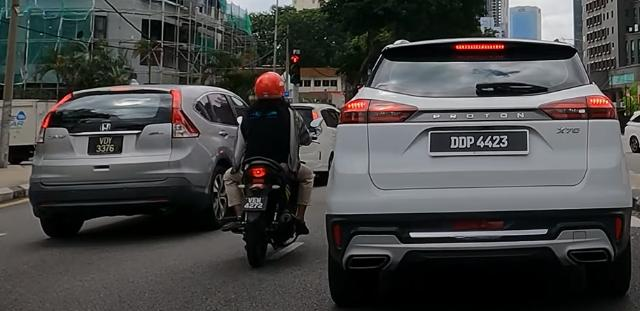License_Plate: (428, 129, 531, 157), (91, 136, 124, 157)
car: (326, 38, 634, 308), (29, 83, 251, 240)
